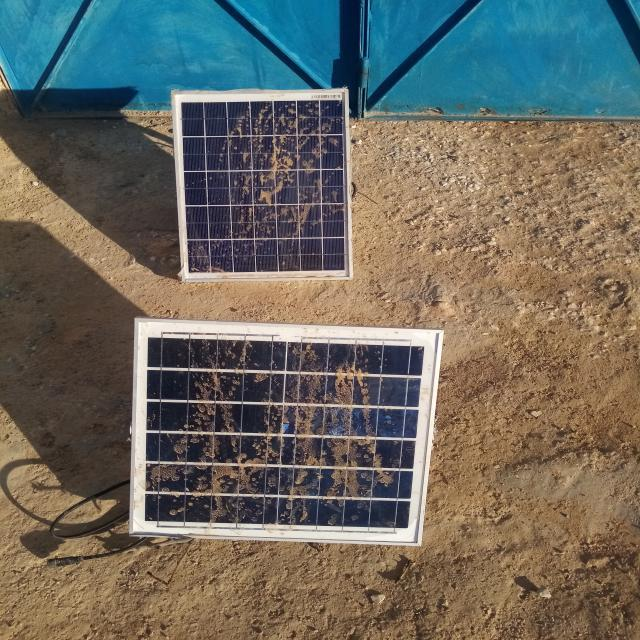faulty: (130, 318, 443, 546), (173, 90, 351, 282)
